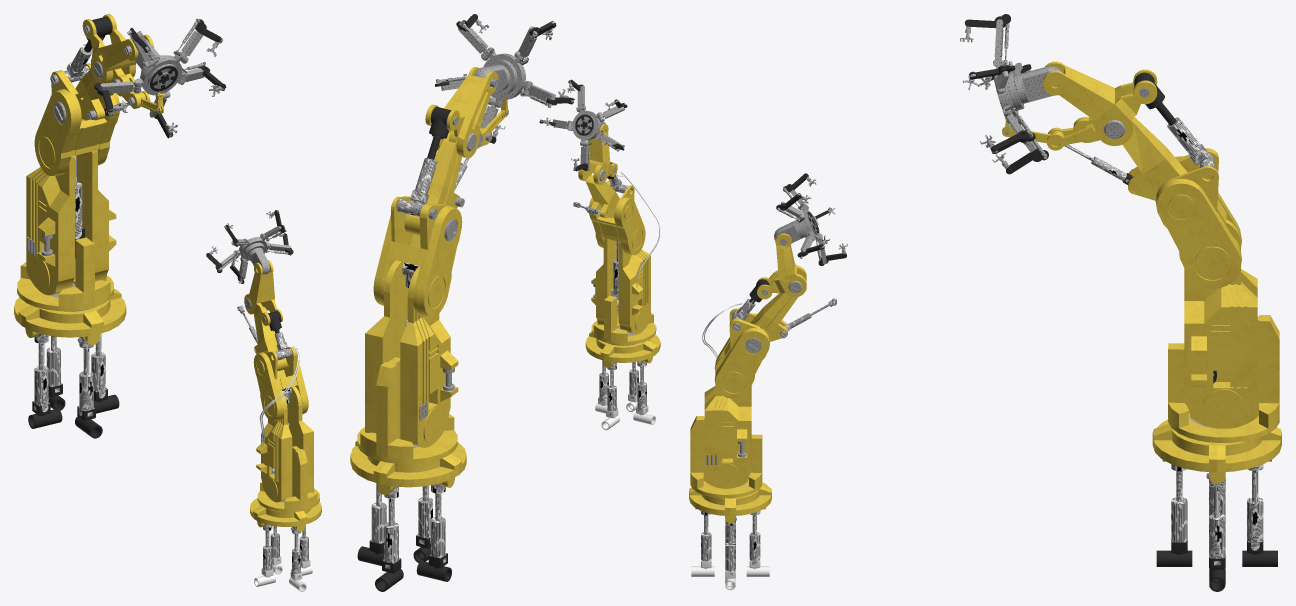
File: man2.glb
The picture shows the model from 3 angles, left to right: view 1: azimuth 30°, elevation 25°; view 2: azimuth 150°, elevation 25°; view 3: azimuth 270°, elevation 25°; orthographic projection. The views are drawn at different scales.
Visible parts, largest first — view 1: man2; view 2: man2; view 3: man2.
Boxes of the visible parts, bbox=[...] form: man2: bbox=[14, 14, 321, 591]; man2: bbox=[350, 14, 660, 591]; man2: bbox=[689, 14, 1281, 591].
Size of the model in its own units: 1.11 by 4.17 by 4.13.
5 materials, 2 textured.
